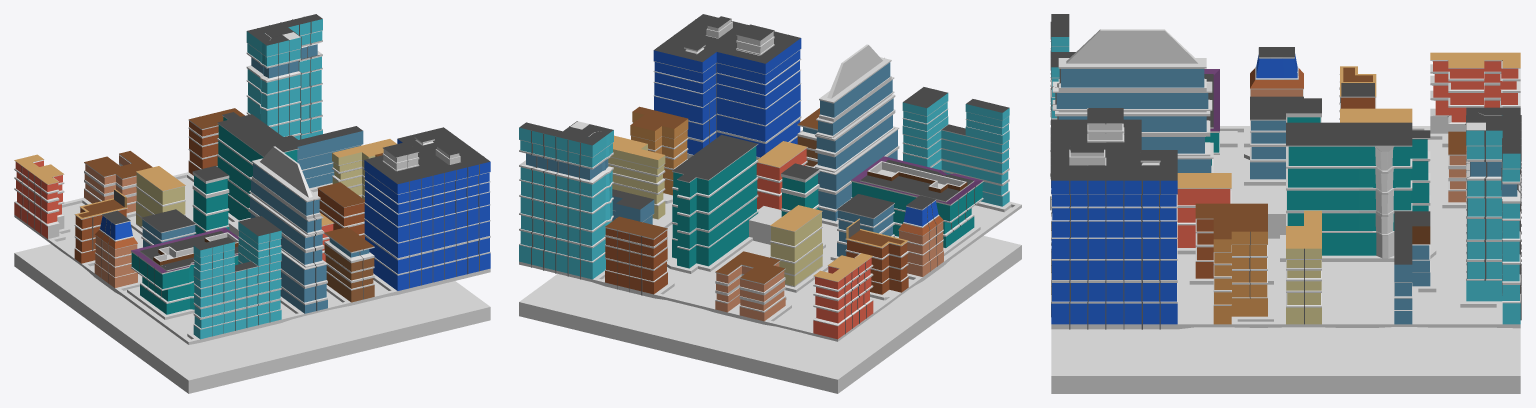
The model's file is CITY8.fbx.
The picture shows the model from 3 angles, left to right: view 1: azimuth 30°, elevation 25°; view 2: azimuth 150°, elevation 25°; view 3: azimuth 270°, elevation 25°; orthographic projection. The views are drawn at different scales.
Parts seen in each view (by area): view 1: Plane, Plane.001; view 2: Plane, Plane.001, Cube; view 3: Plane, Plane.001, Cube.
Part boxes in pixels (left/top/right/bottom): Plane: left=14, top=14, right=490, bottom=344; Plane.001: left=14, top=244, right=490, bottom=393; Plane: left=519, top=14, right=1021, bottom=341; Plane.001: left=519, top=235, right=1021, bottom=393; Cube: left=749, top=206, right=781, bottom=244; Plane: left=1050, top=14, right=1521, bottom=329; Plane.001: left=1051, top=327, right=1520, bottom=393; Cube: left=1262, top=194, right=1285, bottom=238.
Size of the model in its own units: 2004 by 1173 by 2010.
